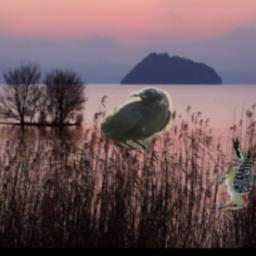Crow: (101, 88, 172, 151)
Woodpecker: (212, 136, 254, 212)
